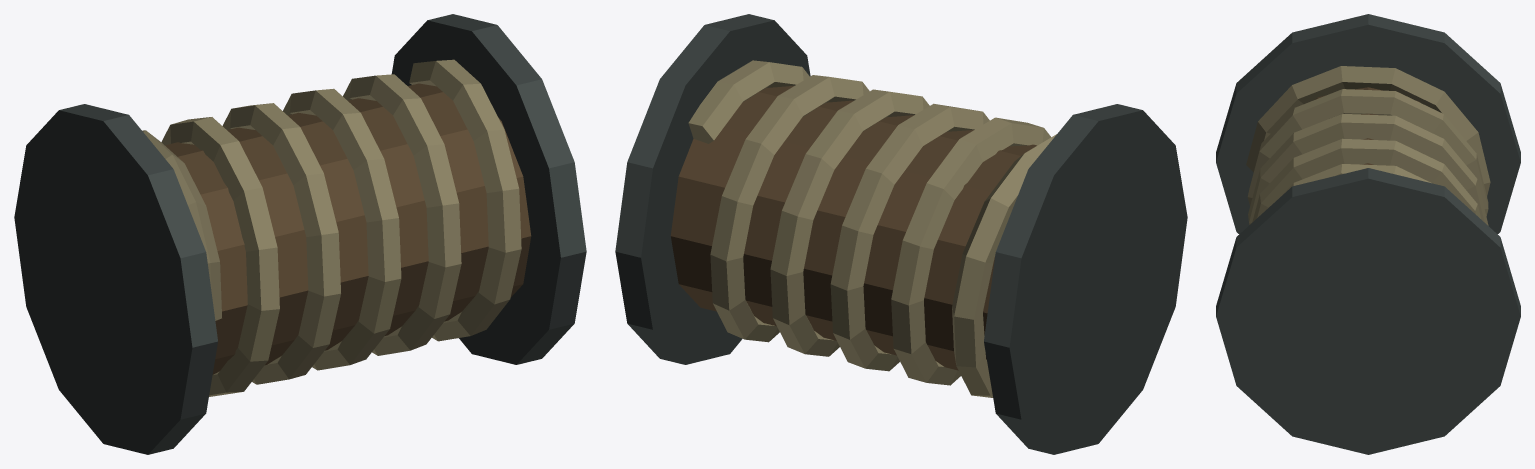
File: strange_drum.glb
3 renders of one model, left to right at view 1: azimuth 30°, elevation 25°; view 2: azimuth 150°, elevation 25°; view 3: azimuth 270°, elevation 25°, orthographic. The views are drawn at different scales.
Visible parts, largest first — view 1: strange_drum; view 2: strange_drum; view 3: strange_drum.
Boxes of the visible parts, x1=… form: strange_drum: x1=14, y1=14, x2=586, y2=454; strange_drum: x1=615, y1=14, x2=1187, y2=454; strange_drum: x1=1216, y1=14, x2=1520, y2=454.
Size of the model in its own units: 0.92 by 0.72 by 0.72.
